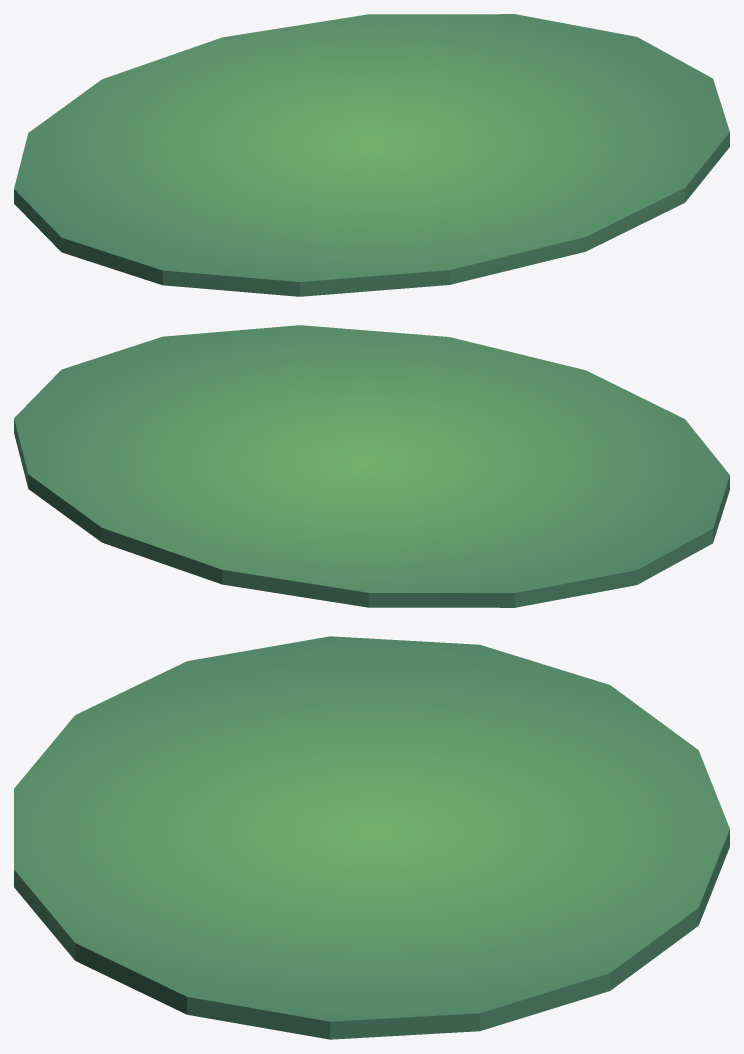
Rendered from Rug-Round.fbx.
The picture shows the model from 3 angles, top to bottom: view 1: azimuth 30°, elevation 25°; view 2: azimuth 150°, elevation 25°; view 3: azimuth 270°, elevation 25°; orthographic projection. The views are drawn at different scales.
Visible parts, largest first — view 1: Rug-Round; view 2: Rug-Round; view 3: Rug-Round.
Part boxes in pixels (x1,y1,x2,y2): Rug-Round: (14, 14, 729, 296); Rug-Round: (14, 325, 729, 607); Rug-Round: (14, 636, 729, 1039).
Size of the model in its own units: 1291 by 28 by 1013.
